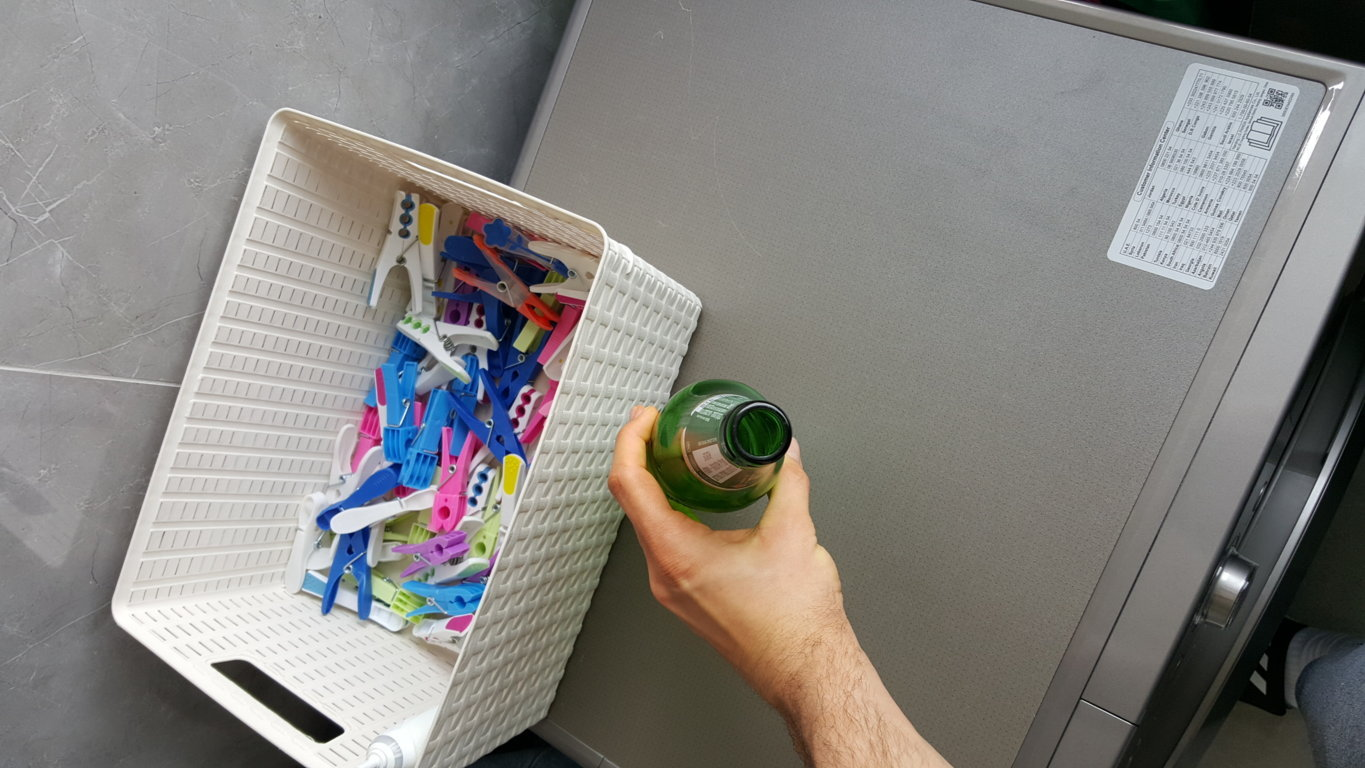beer: (646, 378, 794, 515)
